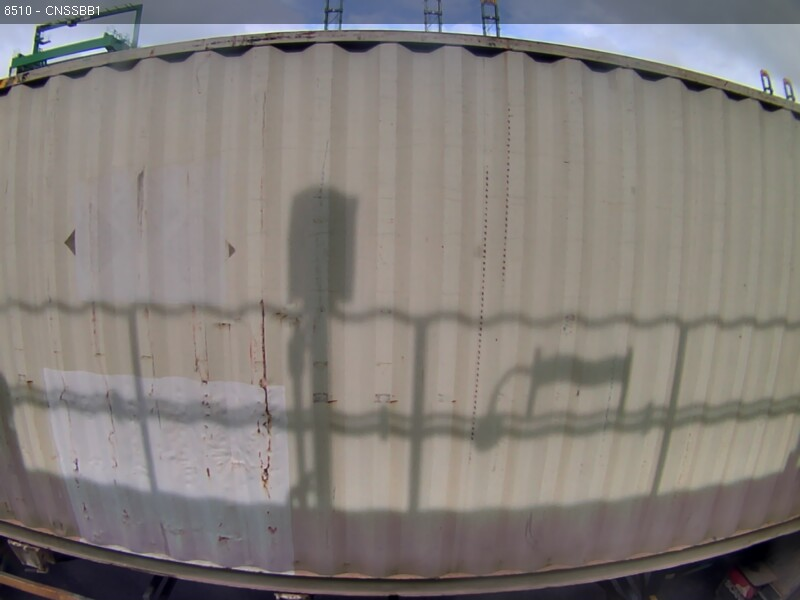container_no_door: (70, 32, 478, 516)
